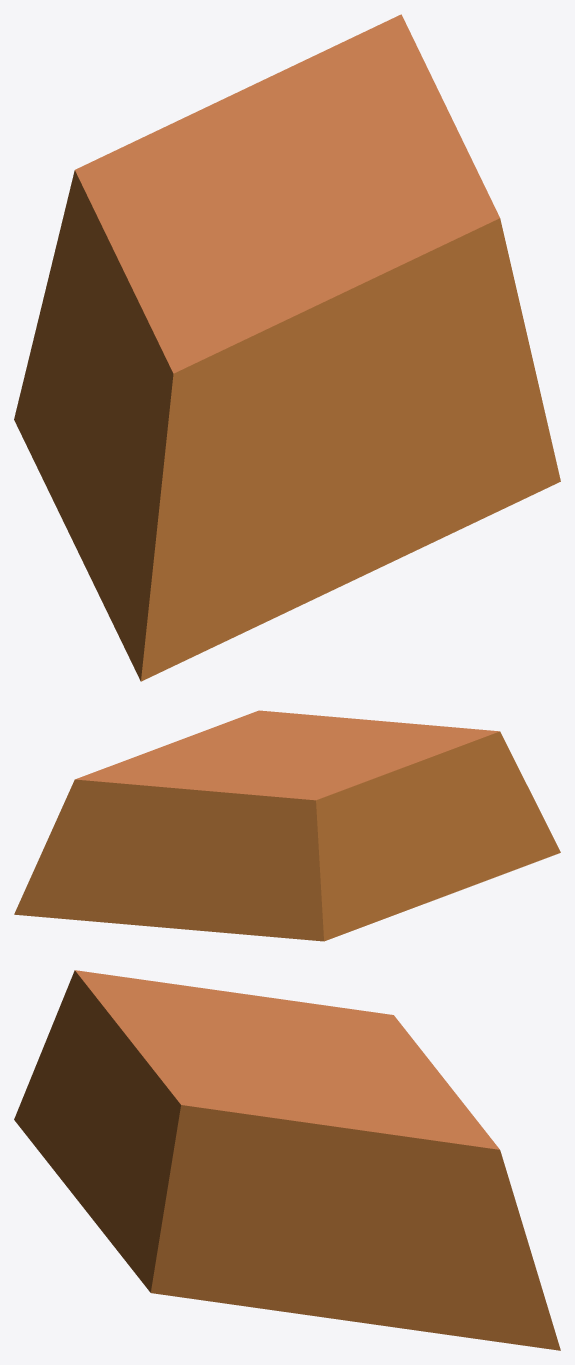
Rendered from CopperBar.fbx.
3 renders of one model, top to bottom at view 1: azimuth 30°, elevation 25°; view 2: azimuth 150°, elevation 25°; view 3: azimuth 270°, elevation 25°, orthographic. The views are drawn at different scales.
Visible parts, largest first — view 1: CopperBar; view 2: CopperBar; view 3: CopperBar.
Part boxes in pixels (bbox=[...]): CopperBar: bbox=[14, 14, 560, 681]; CopperBar: bbox=[14, 710, 560, 941]; CopperBar: bbox=[14, 970, 560, 1350].
Bounding box in the file's own units: 1.27 × 0.45 × 1.27.
1 material, 1 textured.
